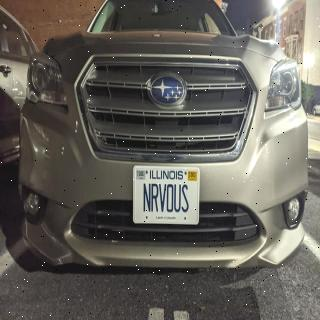license: (133, 166, 202, 226)
